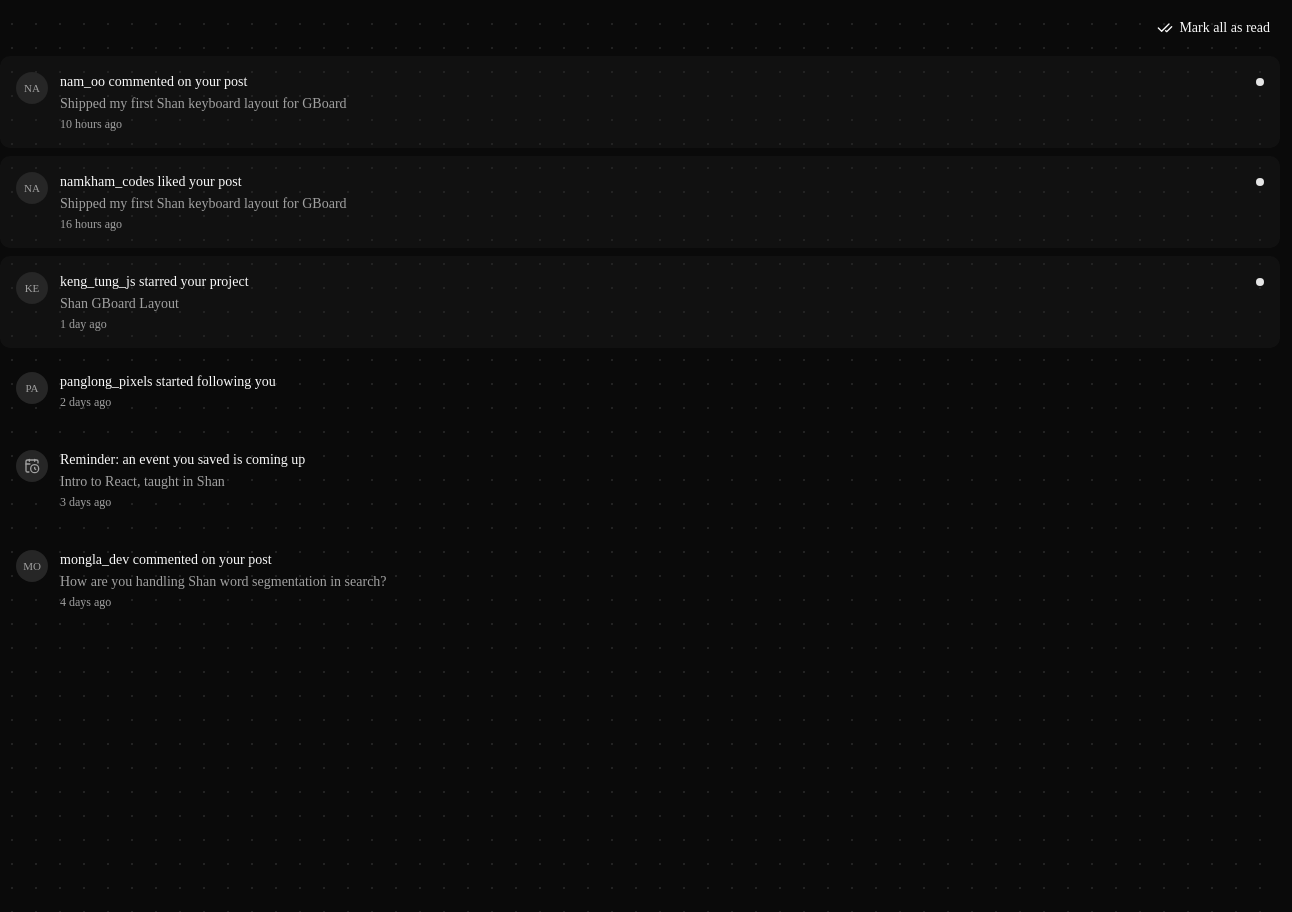
Test: mark all as read clears the unread markers
Expected: the element named "Unread" in the row of "nam_oo" is shown, x1=1256 y1=78 x2=1264 y2=86
Step 1. Click the button "Mark all as read" → coordinates (1214, 28), box x1=1147 y1=12 x2=1280 y2=44
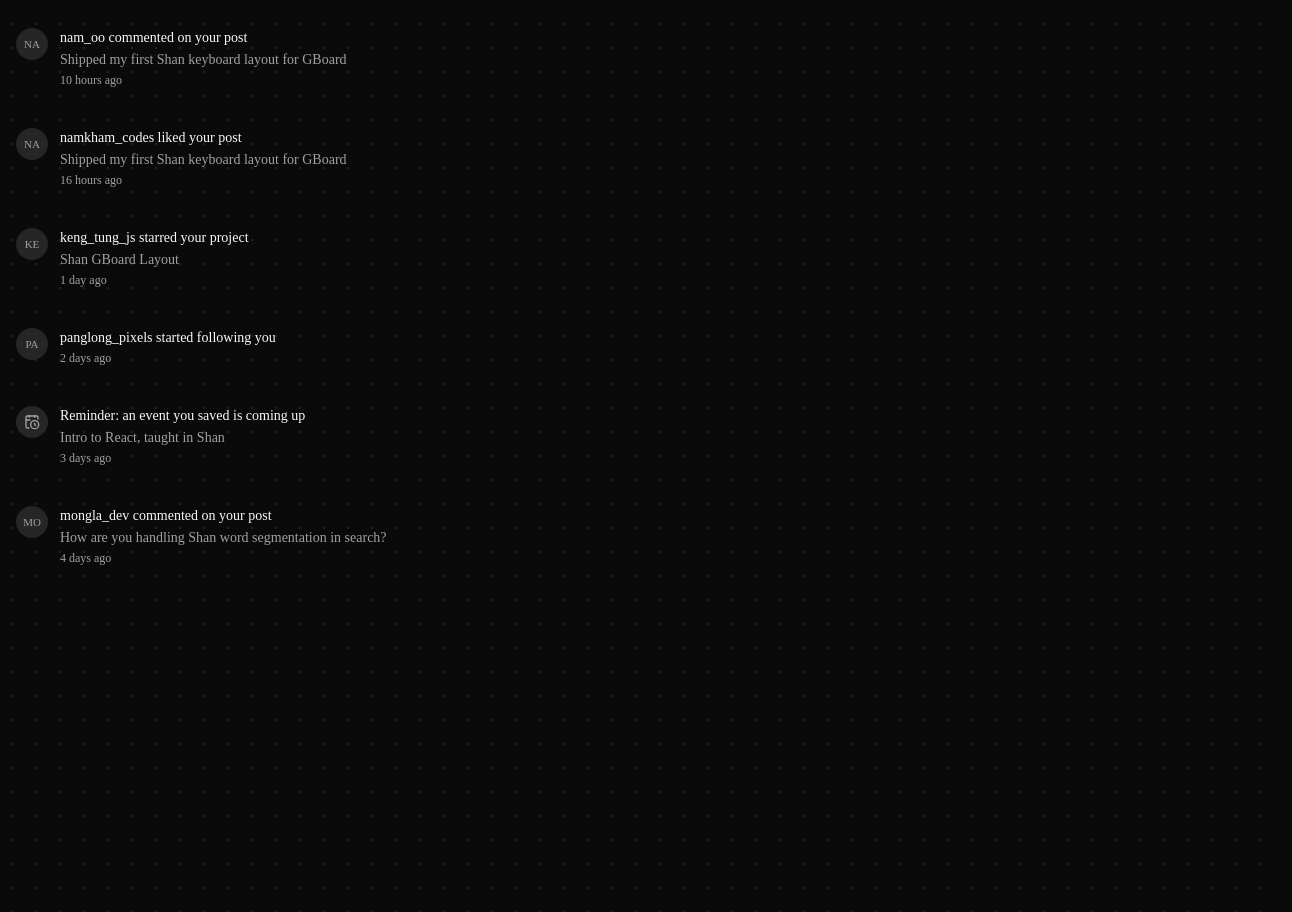
Now no fields labelled "Unread" are shown
